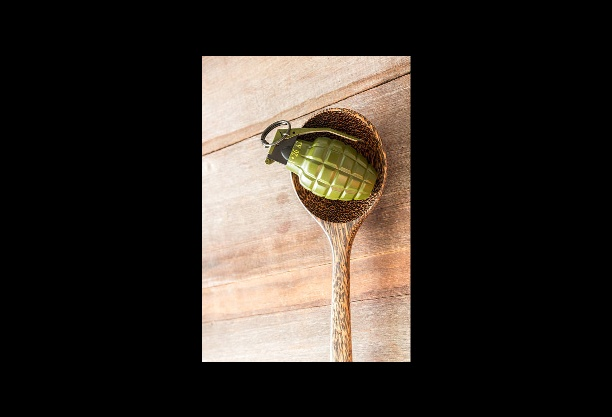e1: (257, 118, 380, 205)
